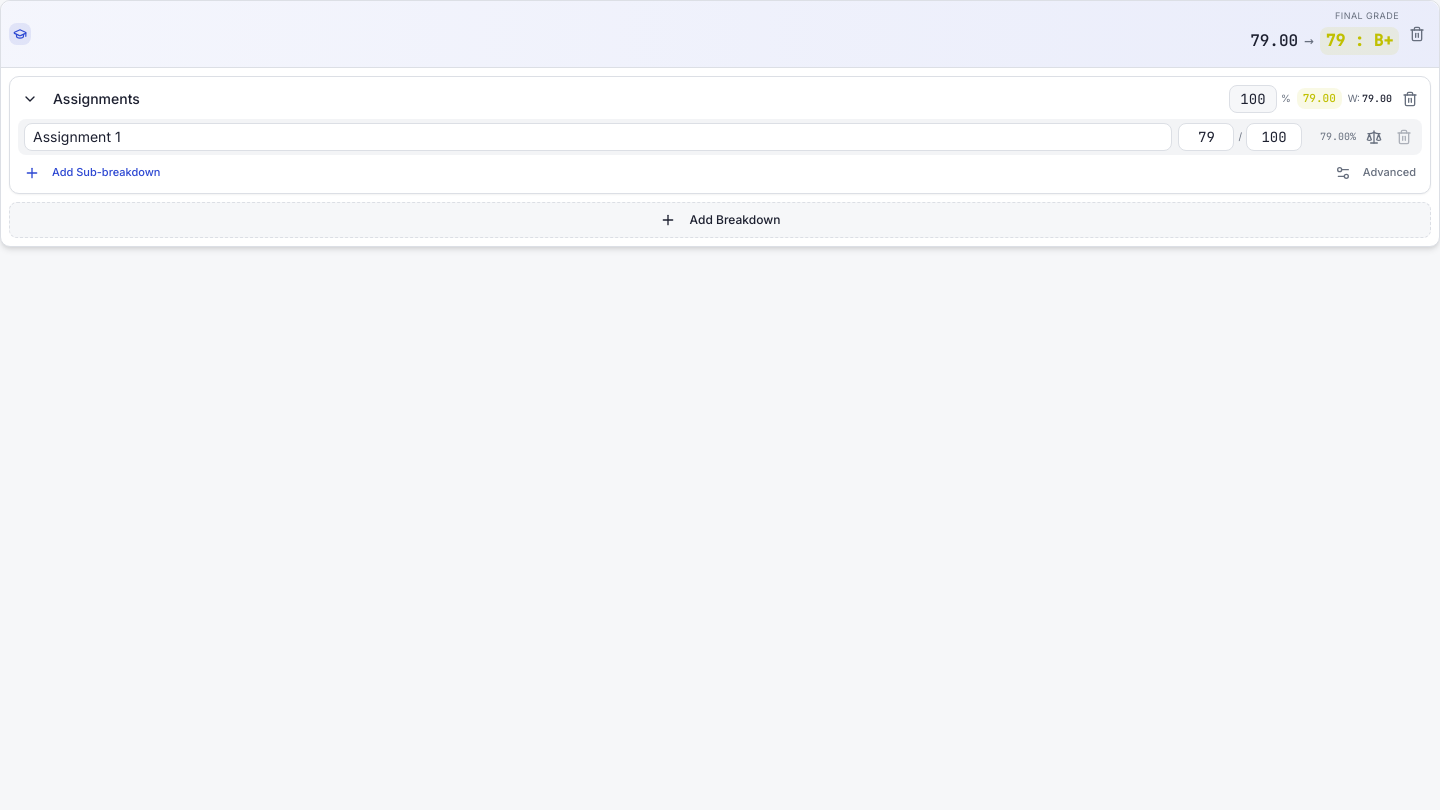
Test: CourseSection › falls back to a generic title for an unnamed course
This screenshot has width=1440, height=810.
Click the button named "Delete course": point(1417, 34) x1=1403 y1=20 x2=1431 y2=48
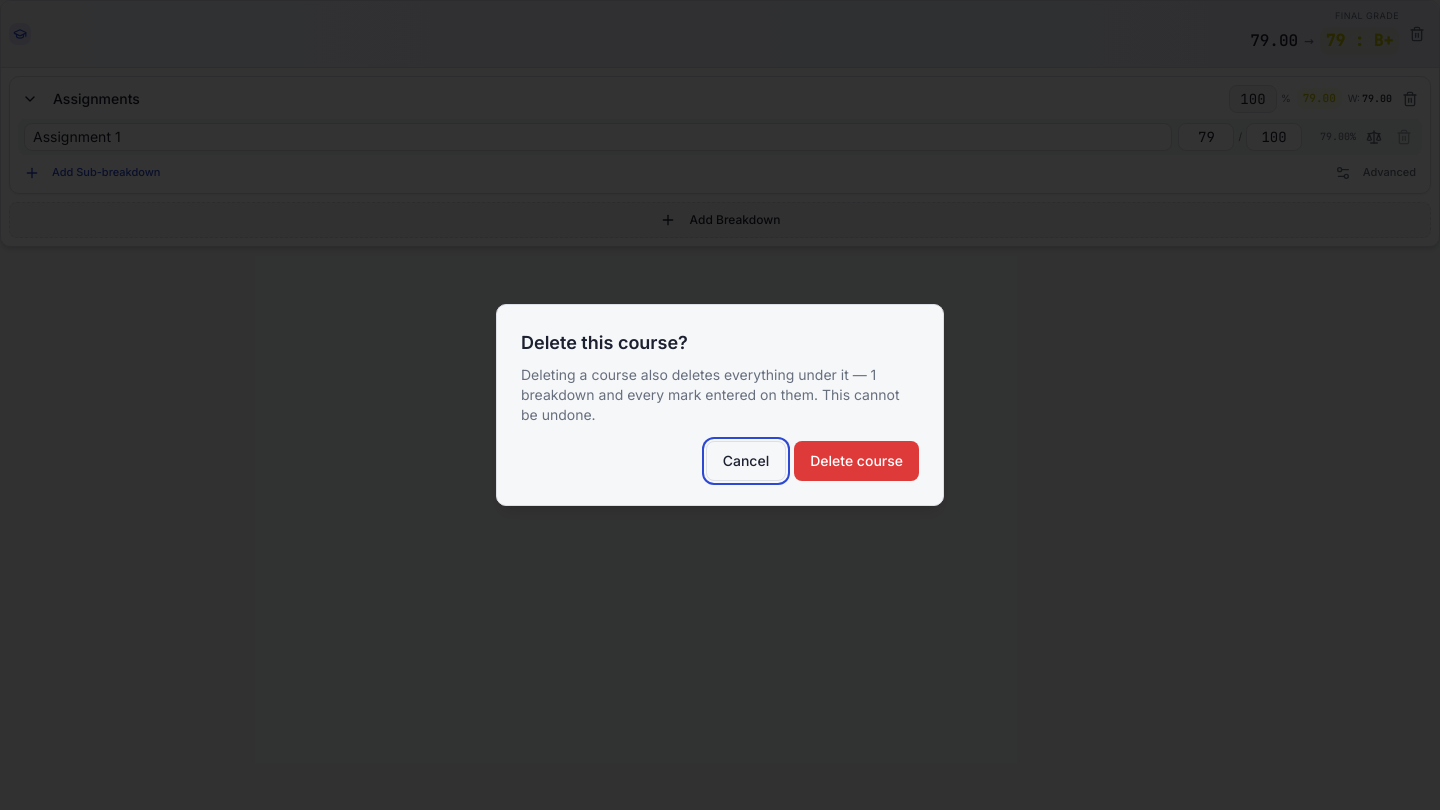
Expected: the heading "Delete this course?" is shown, x1=521 y1=332 x2=688 y2=353
